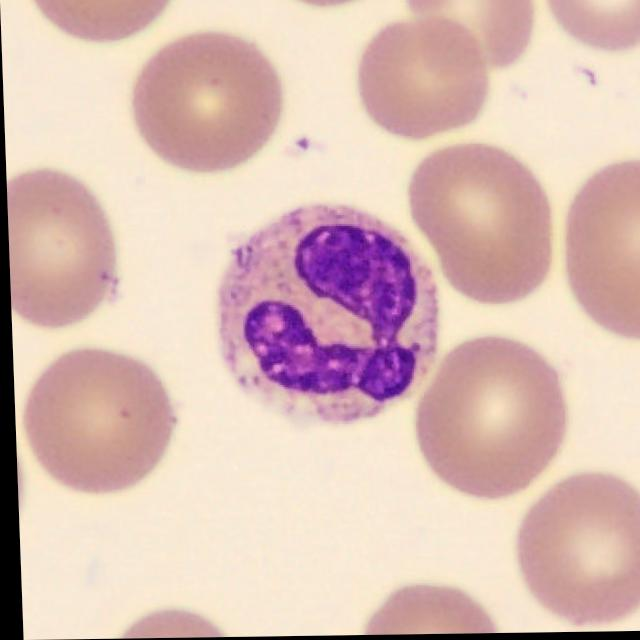Neutrofilo segmentado: (214, 204, 439, 426)
